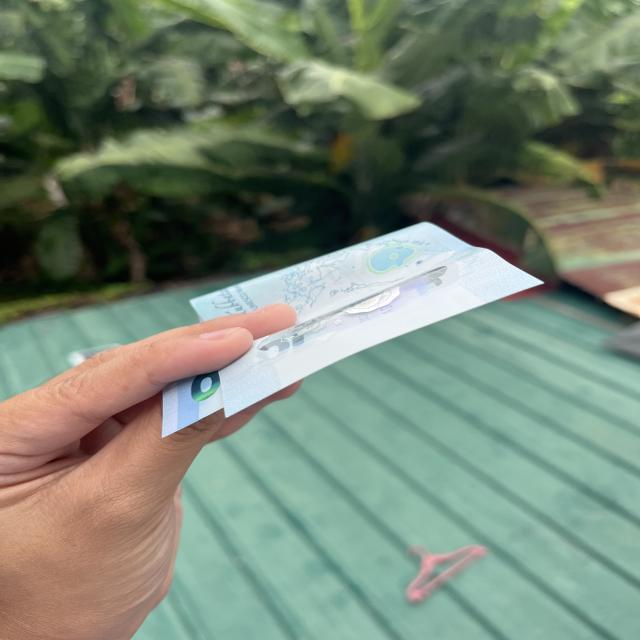clear_window: (214, 246, 516, 386)
